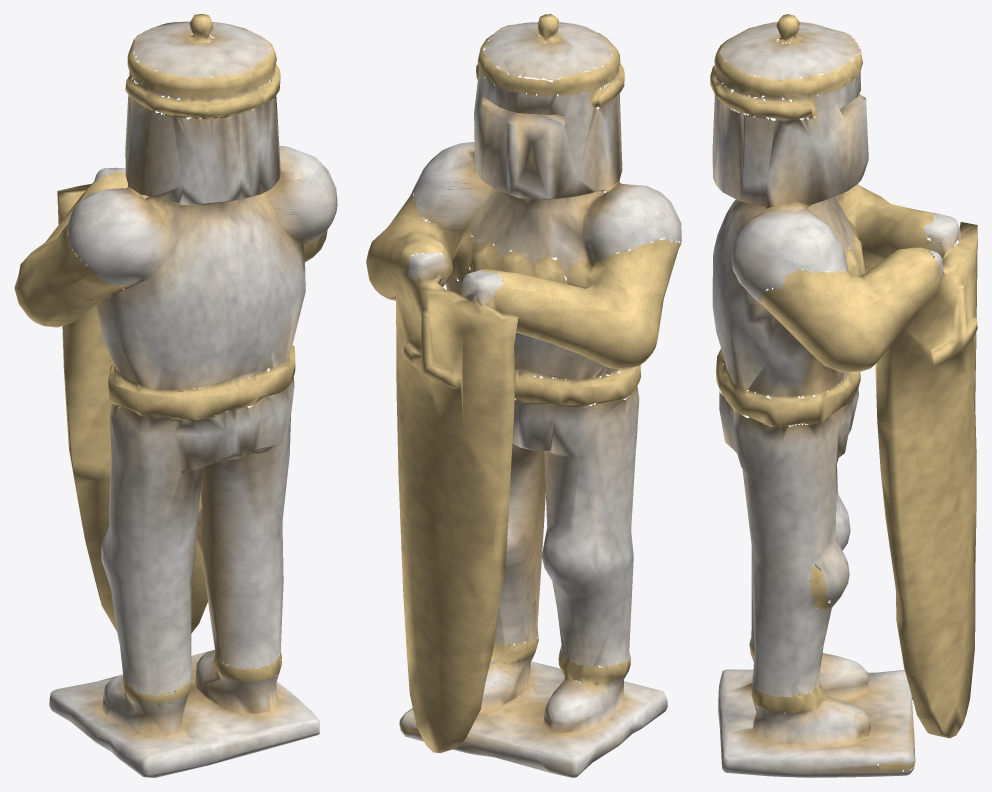
Rendered from knight-white.glb.
3 views of the same model, side by side, from view 1: azimuth 30°, elevation 25°; view 2: azimuth 150°, elevation 25°; view 3: azimuth 270°, elevation 25° (orthographic). The views are drawn at different scales.
Parts seen in each view (by area): view 1: Argent Reliquary – White Knight; view 2: Argent Reliquary – White Knight; view 3: Argent Reliquary – White Knight.
Boxes of the visible parts, bbox=[...] form: Argent Reliquary – White Knight: bbox=[14, 14, 337, 777]; Argent Reliquary – White Knight: bbox=[366, 14, 681, 777]; Argent Reliquary – White Knight: bbox=[710, 14, 977, 777].
Bounding box in the file's own units: 0.5506 × 1.29 × 0.4335.
2 materials, 2 textured.
